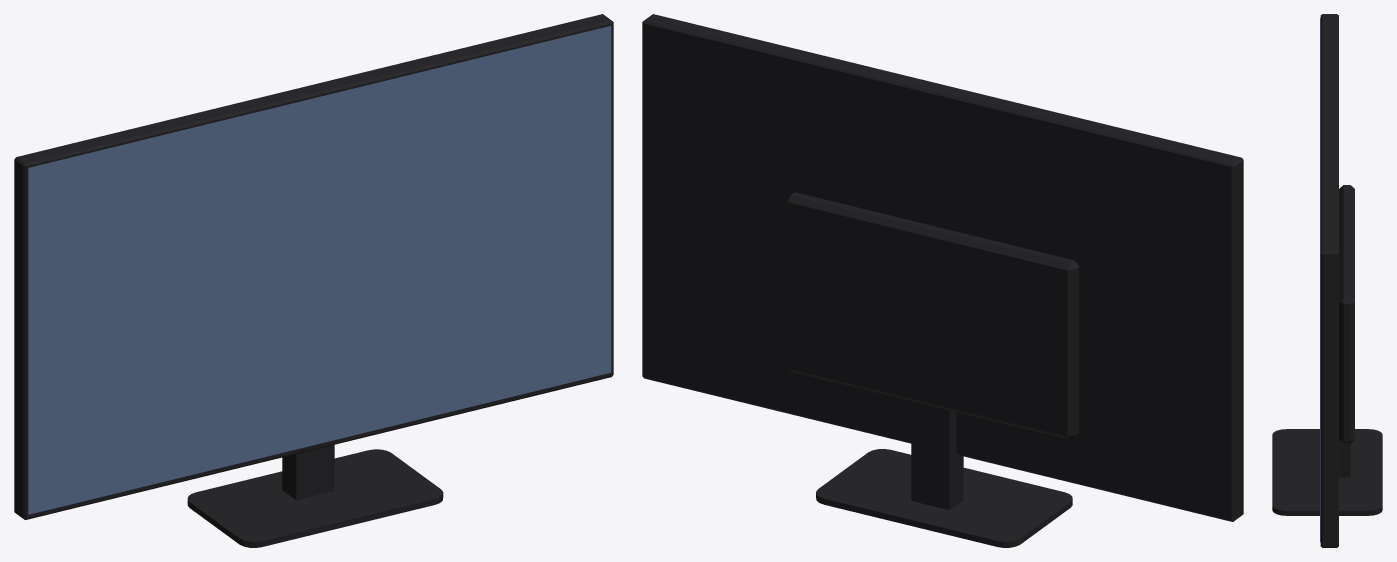
3 views of the same model, side by side, from view 1: azimuth 30°, elevation 25°; view 2: azimuth 150°, elevation 25°; view 3: azimuth 270°, elevation 25° (orthographic). The views are drawn at different scales.
Visible parts, largest first — view 1: screen, tint_body; view 2: tint_body; view 3: tint_body, screen.
Boxes of the visible parts, box(x1,y1,x2,y2) form: screen: box(28, 26, 611, 514); tint_body: box(14, 14, 613, 547); tint_body: box(642, 14, 1243, 547); tint_body: box(1272, 14, 1382, 547); screen: box(1320, 18, 1320, 542).
Bounding box in the file's own units: 1.23 × 0.82 × 0.24.
